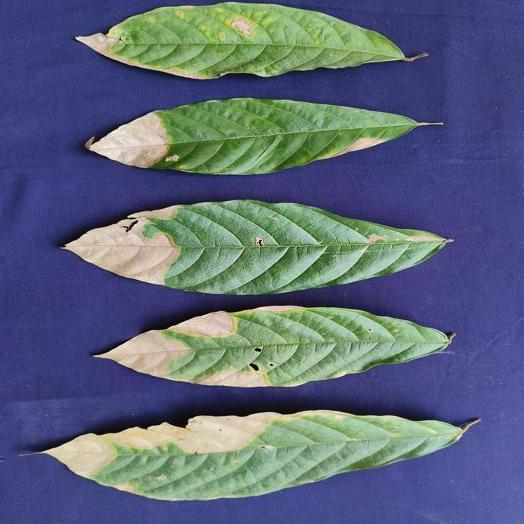Potassium: (45, 410, 476, 500), (64, 199, 447, 294), (98, 306, 453, 387), (86, 98, 440, 174), (77, 2, 426, 79)
